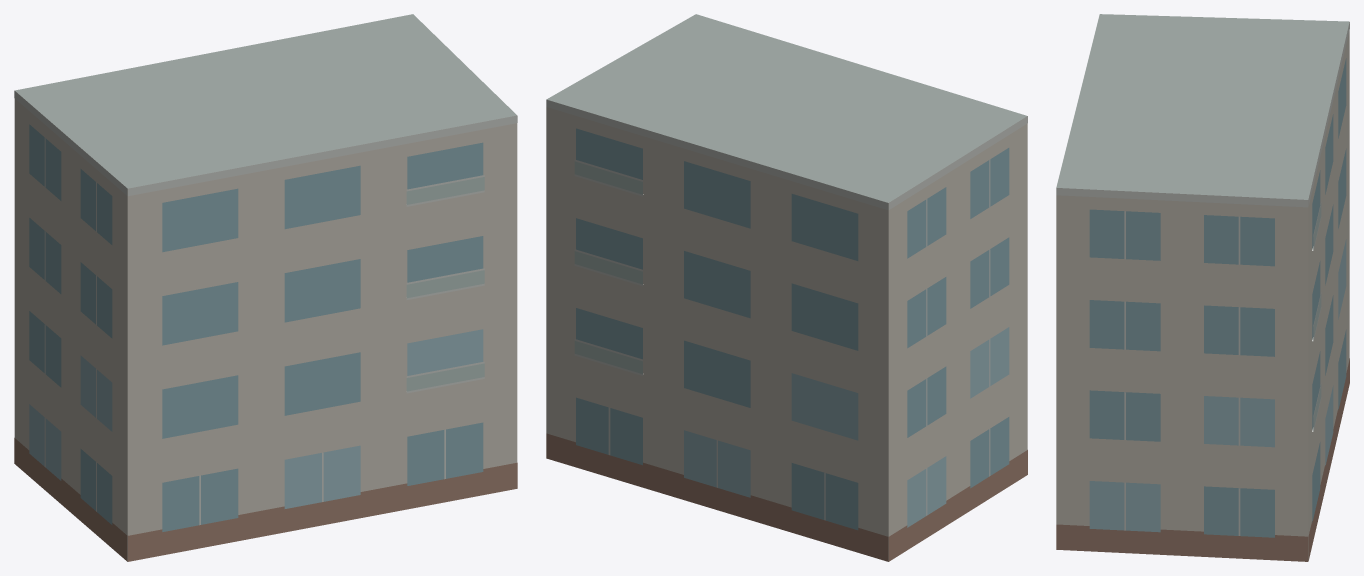
File: survey-upis-32991655.glb
The picture shows the model from 3 angles, left to right: view 1: azimuth 30°, elevation 25°; view 2: azimuth 150°, elevation 25°; view 3: azimuth 270°, elevation 25°; orthographic projection. The views are drawn at different scales.
Visible parts, largest first — view 1: survey-upis-32991655.tmp; view 2: survey-upis-32991655.tmp; view 3: survey-upis-32991655.tmp.
Boxes of the visible parts, left/top/right/bottom form: survey-upis-32991655.tmp: left=14, top=14, right=517, bottom=561; survey-upis-32991655.tmp: left=546, top=14, right=1027, bottom=561; survey-upis-32991655.tmp: left=1056, top=14, right=1349, bottom=561.
Size of the model in its own units: 13.13 by 11.9 by 8.76.
